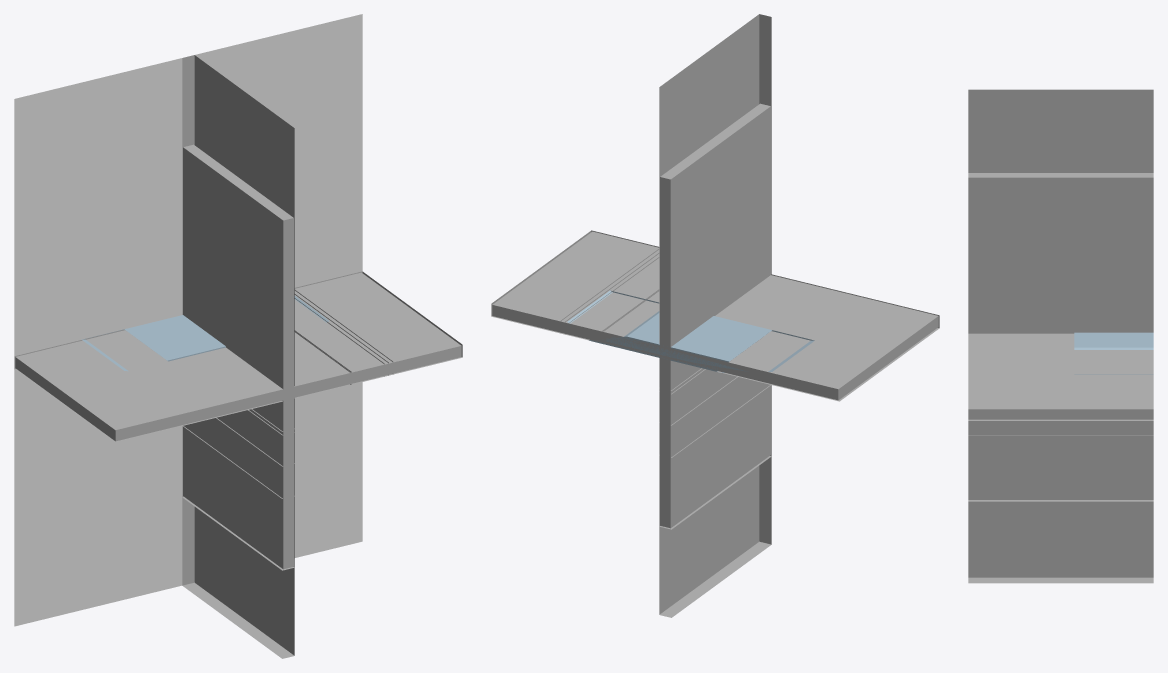
3 renders of one model, left to right at view 1: azimuth 30°, elevation 25°; view 2: azimuth 150°, elevation 25°; view 3: azimuth 270°, elevation 25°, orthographic. The views are drawn at different scales.
Parts seen in each view (by area): view 1: FloorPlan, test; view 2: test; view 3: test.
Part boxes in pixels (x1,y1,x2,y2): FloorPlan: (14,14,362,626); test: (14,55,462,658); test: (491,14,939,617); test: (968,89,1153,583).
Size of the model in its own units: 5.62 by 8.14 by 2.8.
